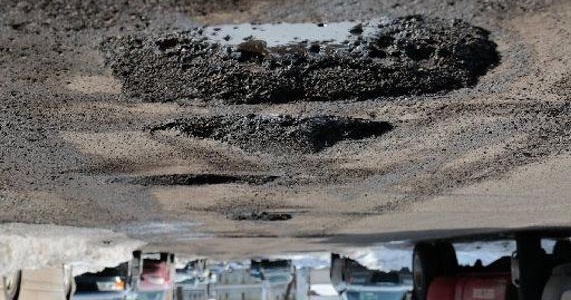pothole: (98, 14, 506, 108), (145, 111, 397, 158), (106, 173, 280, 189), (231, 211, 293, 225)
